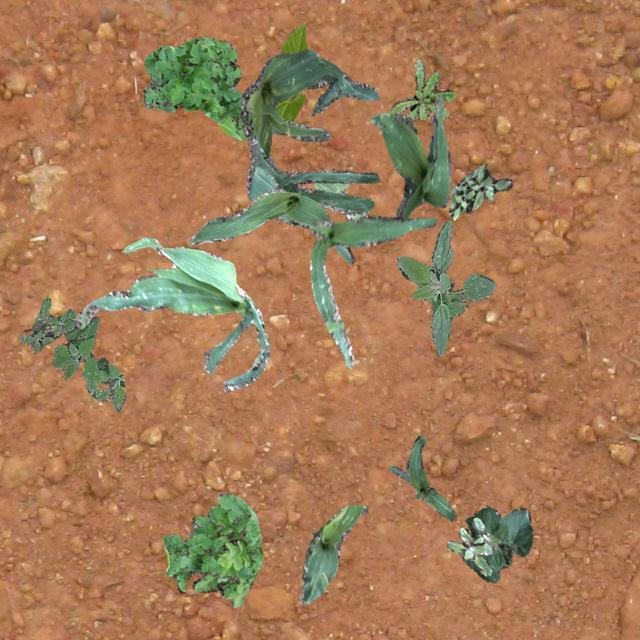crop: (75, 236, 268, 392), (240, 48, 378, 224), (188, 138, 378, 262), (308, 214, 436, 368), (370, 96, 450, 218), (298, 504, 366, 604), (388, 434, 454, 520), (461, 506, 532, 582), (274, 22, 308, 122), (312, 182, 364, 220)
weed: (396, 218, 496, 354), (18, 296, 124, 411), (162, 492, 262, 606), (142, 36, 246, 140), (390, 58, 454, 120), (448, 162, 512, 218), (446, 516, 500, 574)
